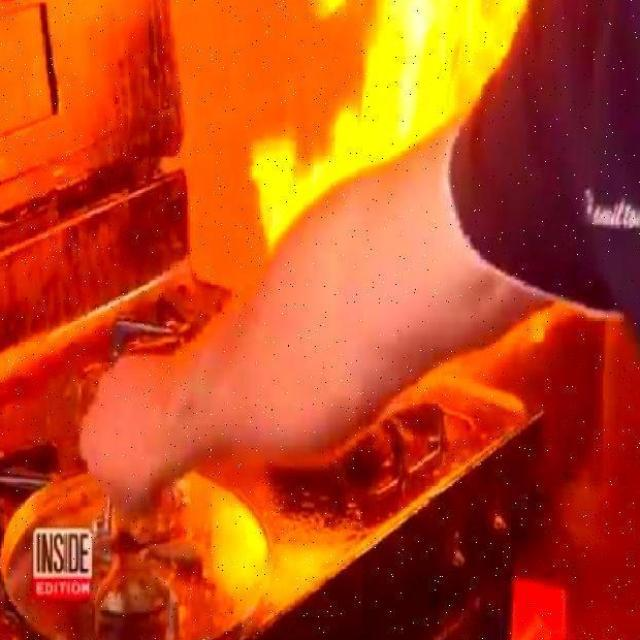smoke: (237, 0, 534, 251)
